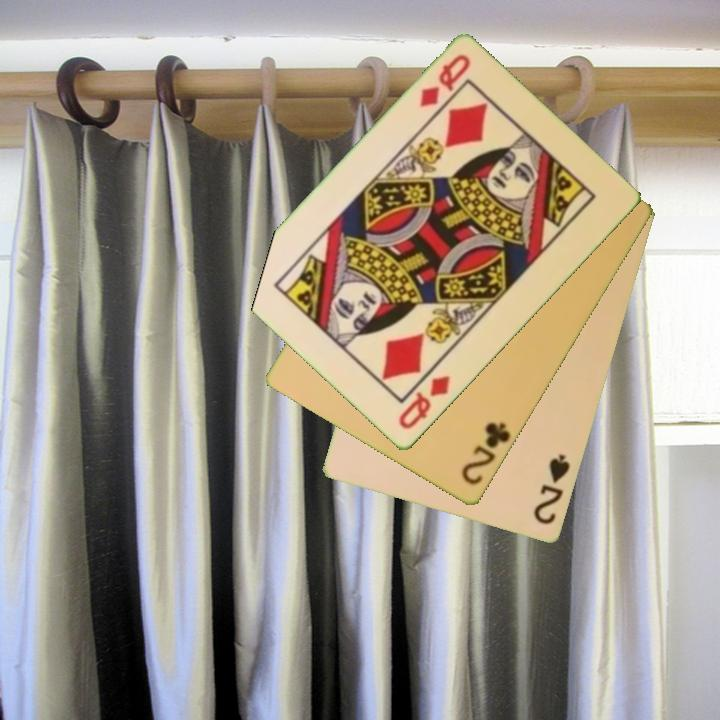2c: (458, 419, 514, 489)
2s: (530, 451, 574, 528)
Qd: (394, 372, 454, 433), (416, 51, 474, 111)
